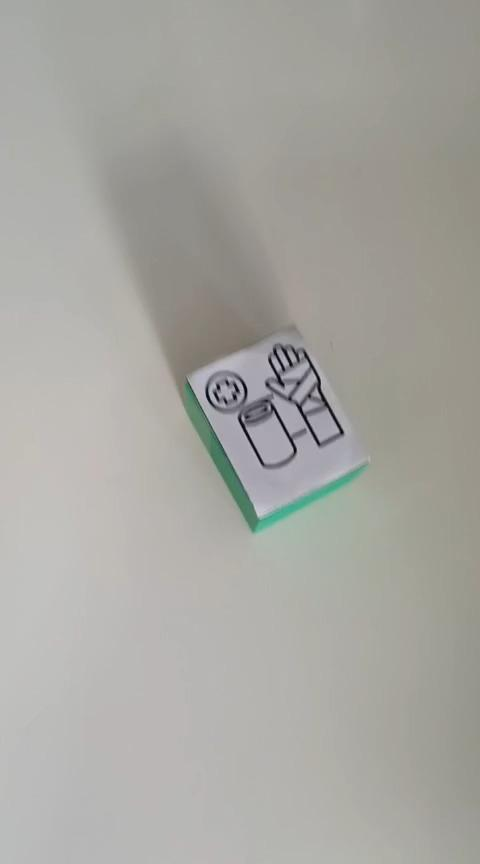Bandages: (181, 323, 370, 532)
